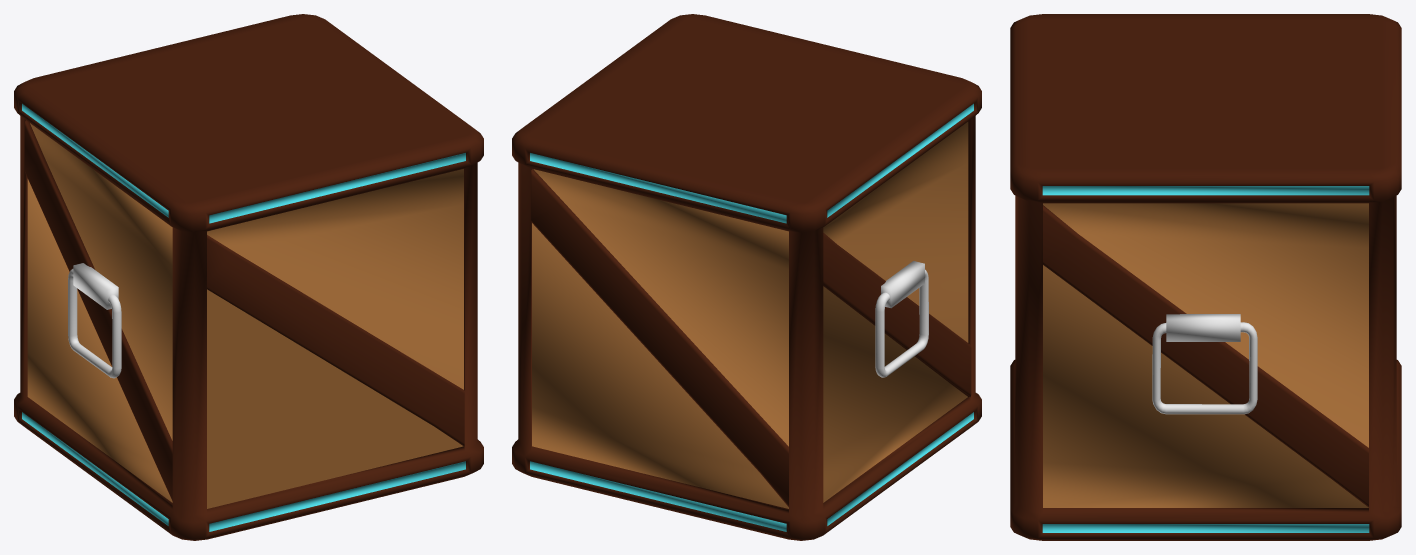
Rendered from Caisse_Commerce_Poignee.fbx.
The picture shows the model from 3 angles, left to right: view 1: azimuth 30°, elevation 25°; view 2: azimuth 150°, elevation 25°; view 3: azimuth 270°, elevation 25°; orthographic projection. The views are drawn at different scales.
Parts seen in each view (by area): view 1: Cube.043; view 2: Cube.043; view 3: Cube.043.
Part boxes in pixels (<box>): Cube.043: <box>14,14,483,540</box>; Cube.043: <box>512,14,981,540</box>; Cube.043: <box>1010,14,1401,540</box>.
Bounding box in the file's own units: 102 × 102 × 98.52.
